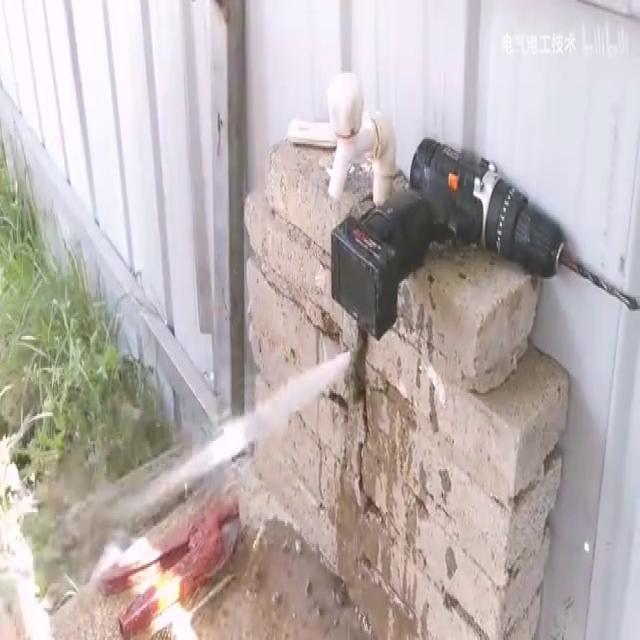leak: (0, 346, 354, 640)
